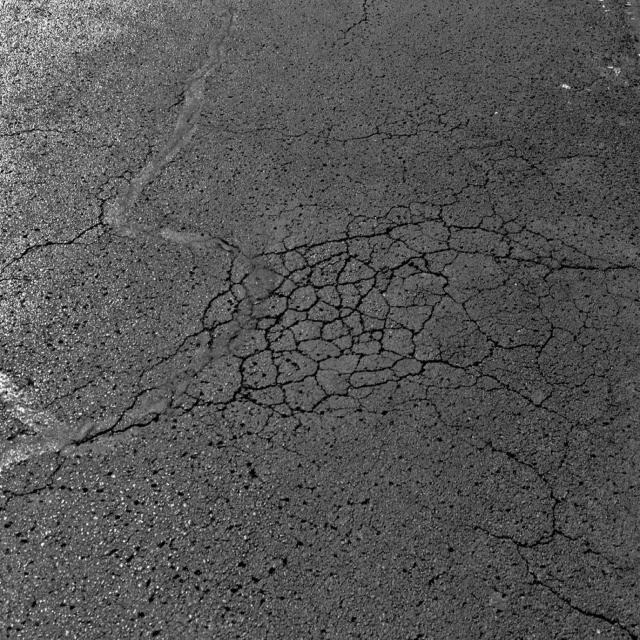Drain Hole: (169, 220, 584, 473)
